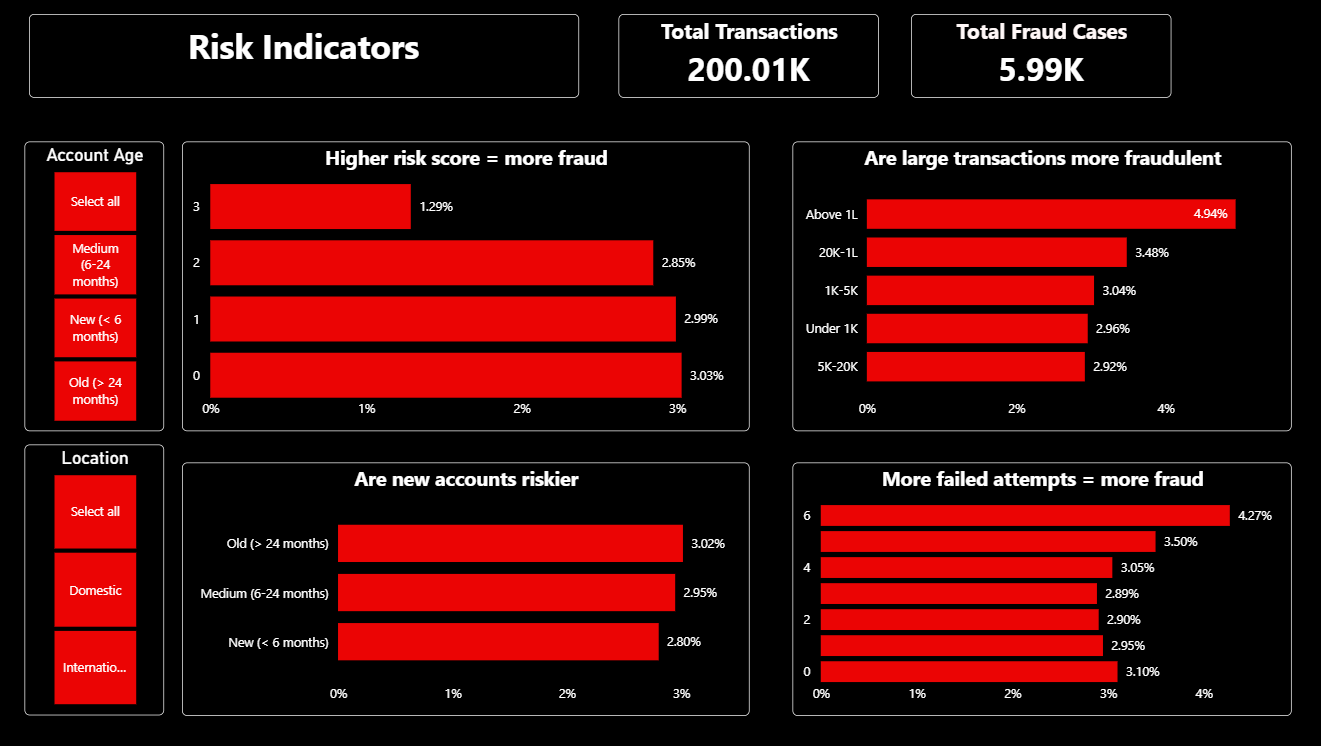

The page's visual inventory and layout, read from the dashboard file:
{"tool":"powerbi","page":{"name":"Risk Indicators","canvas":[1280,720],"ordinal":3},"visuals":[{"type":"textbox","box":[36.7,16.7,525,80],"z":0},{"type":"card","title":"Total Transactions","fields":{"Values":["CountNonNull(cleaned_fraud_dataset.is_fraud)"]},"box":[600,16.7,248.3,80],"z":1000},{"type":"card","title":"Total Fraud Cases","fields":{"Values":["Sum(cleaned_fraud_dataset.is_fraud)"]},"box":[880,16.7,248.3,80],"z":2000},{"type":"barChart","title":"More failed attempts = more fraud","fields":{"Category":["cleaned_fraud_dataset.failed_attempts"],"Y":["cleaned_fraud_dataset.Fraud Rate %"]},"box":[766.7,445,476.7,241.7],"z":3000},{"type":"barChart","title":"Are new accounts riskier","fields":{"Category":["cleaned_fraud_dataset.Account Age"],"Y":["cleaned_fraud_dataset.Fraud Rate %"]},"box":[183.3,445,541.7,241.7],"z":4000},{"type":"barChart","title":"Higher risk score = more fraud","fields":{"Category":["cleaned_fraud_dataset.Risk Score"],"Y":["cleaned_fraud_dataset.Fraud Rate %"]},"box":[183.3,138.3,541.7,276.7],"z":5000},{"type":"barChart","title":"Are large transactions more fraudulent","fields":{"Category":["cleaned_fraud_dataset.Amount Range"],"Y":["cleaned_fraud_dataset.Fraud Rate %"]},"box":[766.7,138.3,476.7,276.7],"z":6000},{"type":"slicer","title":" Account Age","fields":{"Values":["cleaned_fraud_dataset.Account Age"]},"box":[33.3,138.3,133.3,276.7],"z":7000},{"type":"slicer","title":"Location","fields":{"Values":["cleaned_fraud_dataset.Transaction Location"]},"box":[33.3,428.3,133.3,258.3],"z":8000}]}

Visuals, with their boxes in screenshot pixels (x1, y1, x2, y2), scaled from the page's 1280x720 canvas onto the 1321x746 screenshot:
textbox: left=38, top=17, right=580, bottom=100
"Total Transactions" card: left=619, top=17, right=875, bottom=100
"Total Fraud Cases" card: left=908, top=17, right=1164, bottom=100
"More failed attempts = more fraud" barChart: left=791, top=461, right=1283, bottom=711
"Are new accounts riskier" barChart: left=189, top=461, right=748, bottom=711
"Higher risk score = more fraud" barChart: left=189, top=143, right=748, bottom=430
"Are large transactions more fraudulent" barChart: left=791, top=143, right=1283, bottom=430
" Account Age" slicer: left=34, top=143, right=172, bottom=430
"Location" slicer: left=34, top=444, right=172, bottom=711
